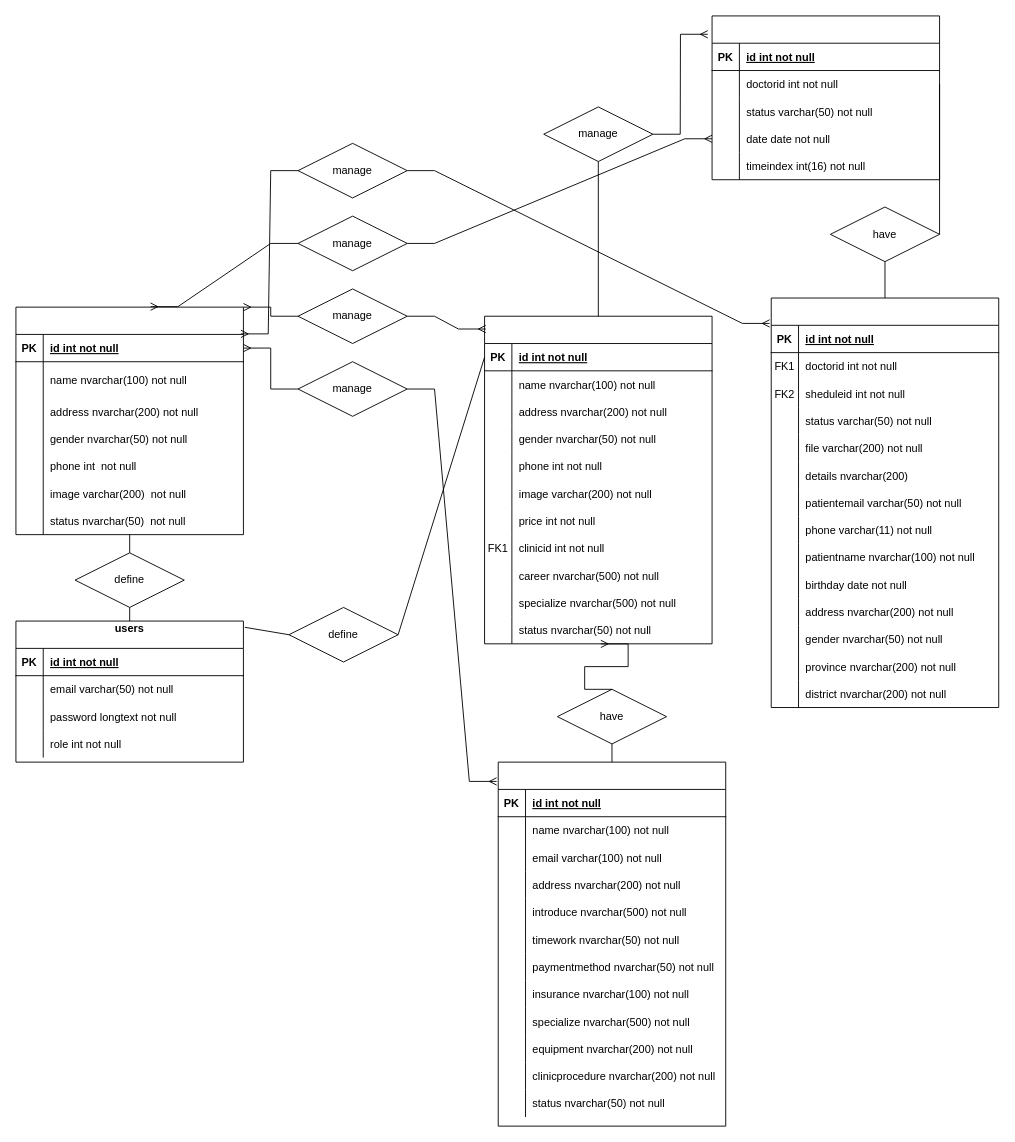
Some shapes in this 1015 by 1142 pixel diagram are drawn without their labels. Here are the shapes that lost their labels. From the top down, the box of each, then its label:
(711, 15, 940, 180): schedule
(15, 306, 243, 535): admins
(484, 315, 712, 644): doctors
(770, 297, 999, 708): booking
(497, 761, 726, 1126): clinics
